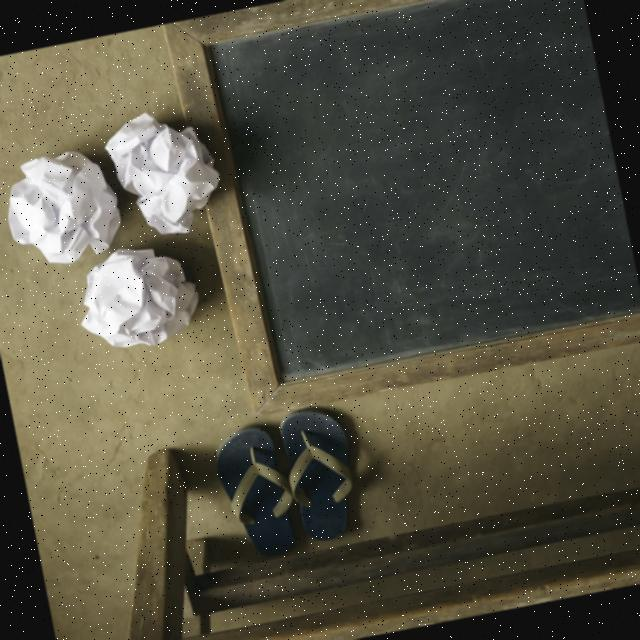paper: (73, 238, 208, 366), (0, 137, 126, 272), (106, 104, 227, 240)
